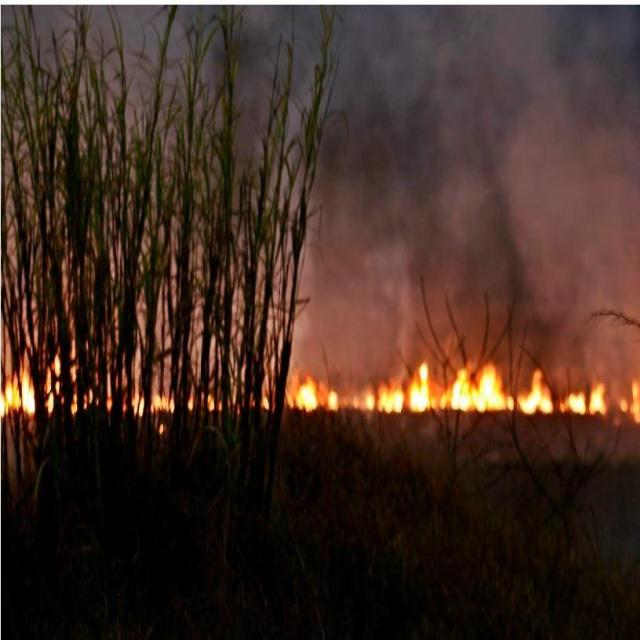Fire: (294, 364, 606, 414), (2, 358, 62, 414), (620, 377, 639, 416)
